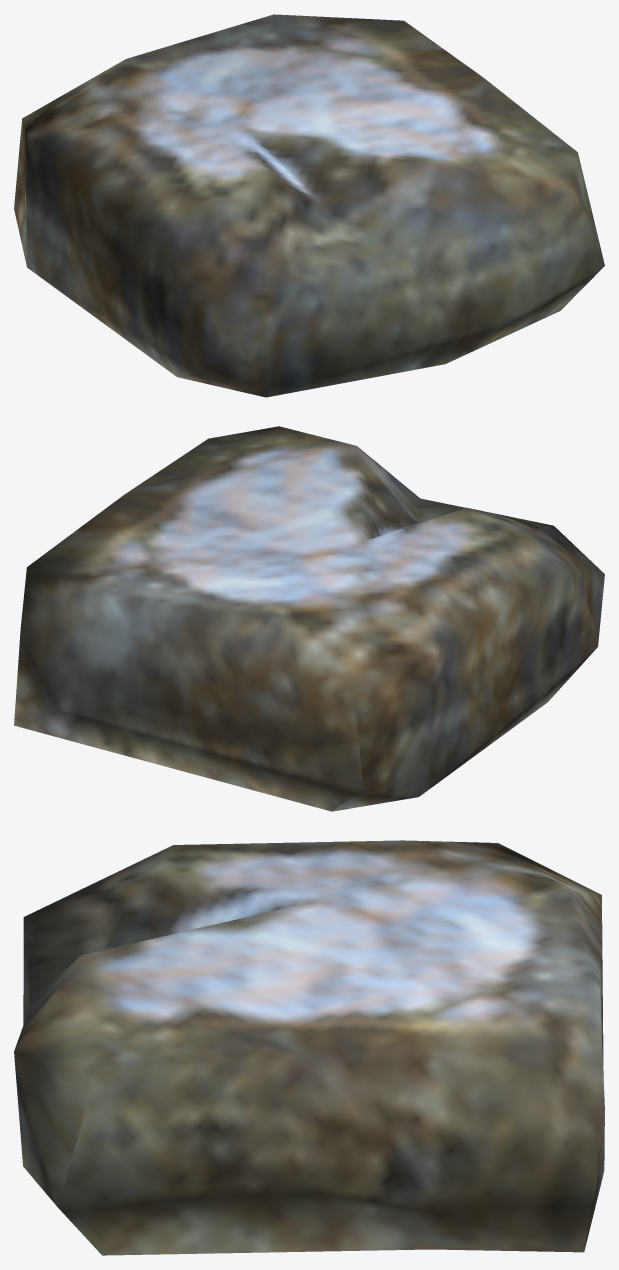
File: SM_EN_2007_shitou13.FBX
The picture shows the model from 3 angles, top to bottom: view 1: azimuth 30°, elevation 25°; view 2: azimuth 150°, elevation 25°; view 3: azimuth 270°, elevation 25°; orthographic projection. The views are drawn at different scales.
Parts seen in each view (by area): view 1: SM_EN_2007_shitou13; view 2: SM_EN_2007_shitou13; view 3: SM_EN_2007_shitou13.
Part boxes in pixels (<box>): SM_EN_2007_shitou13: <box>14,14,604,397</box>; SM_EN_2007_shitou13: <box>14,426,604,811</box>; SM_EN_2007_shitou13: <box>14,840,604,1255</box>.
Size of the model in its own units: 59.67 by 25.9 by 61.38.
